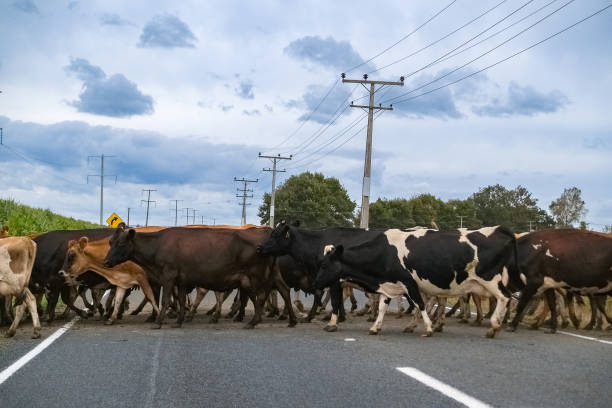inek: (321, 239, 528, 336), (118, 219, 282, 330), (512, 215, 611, 362), (270, 221, 375, 314), (69, 236, 177, 314), (30, 232, 123, 317), (1, 229, 51, 341)
